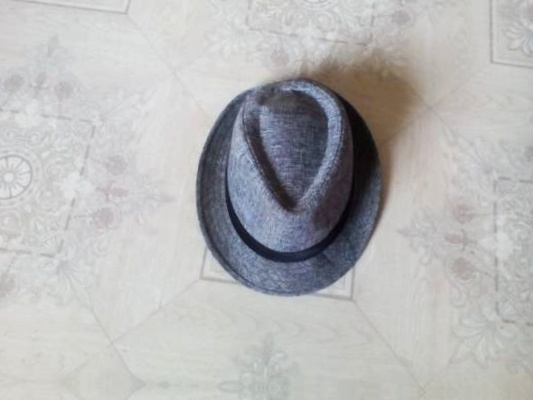Hat: (180, 56, 389, 309)
